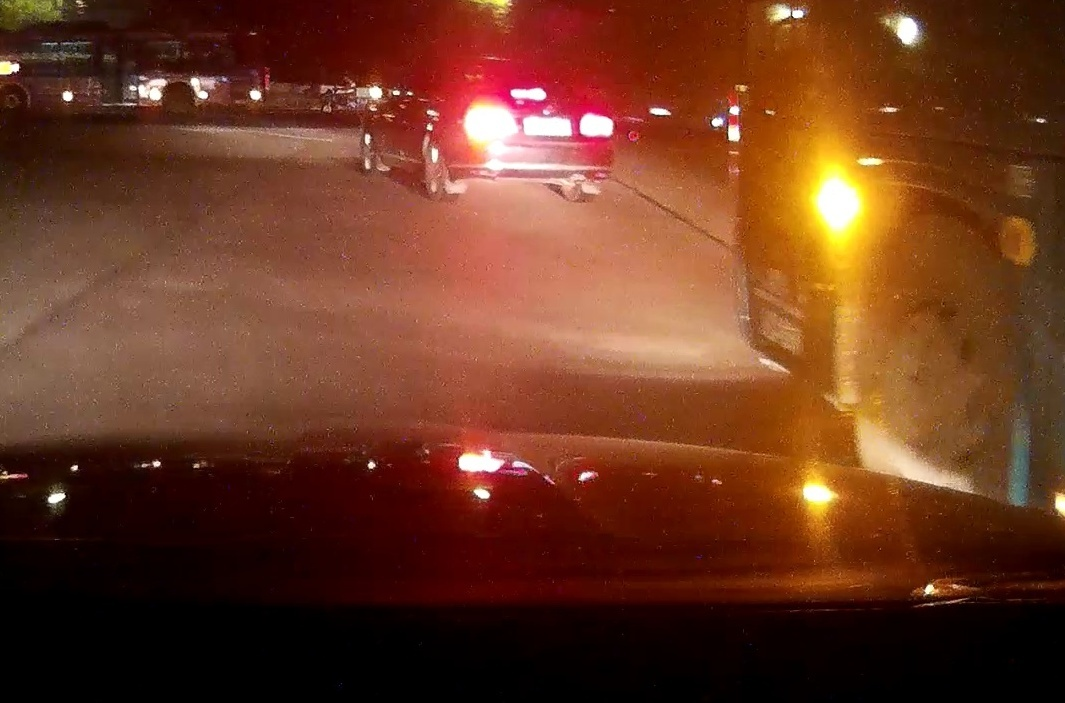L_light: (462, 101, 518, 141)
R_light: (580, 113, 615, 138)
T_light: (509, 85, 548, 102)
night-left: (449, 60, 616, 203)
